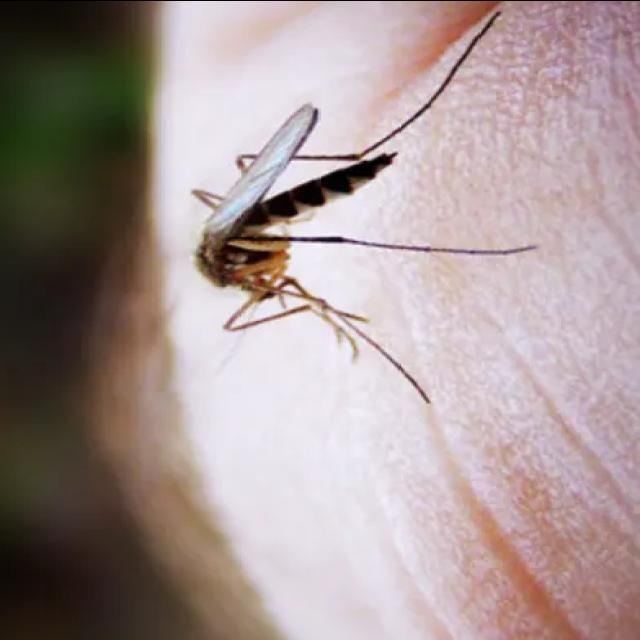Mosquito: (152, 48, 541, 420)
